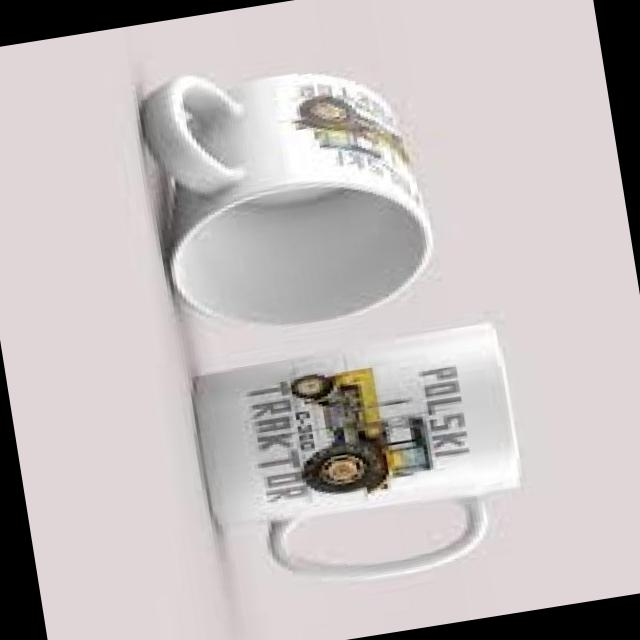Coffee Mug: (186, 322, 534, 604), (142, 42, 444, 346)
